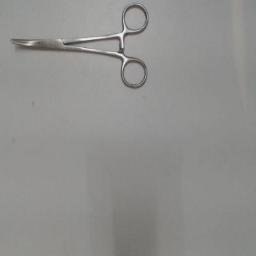Crile Artery Forceps: (8, 2, 154, 94)
